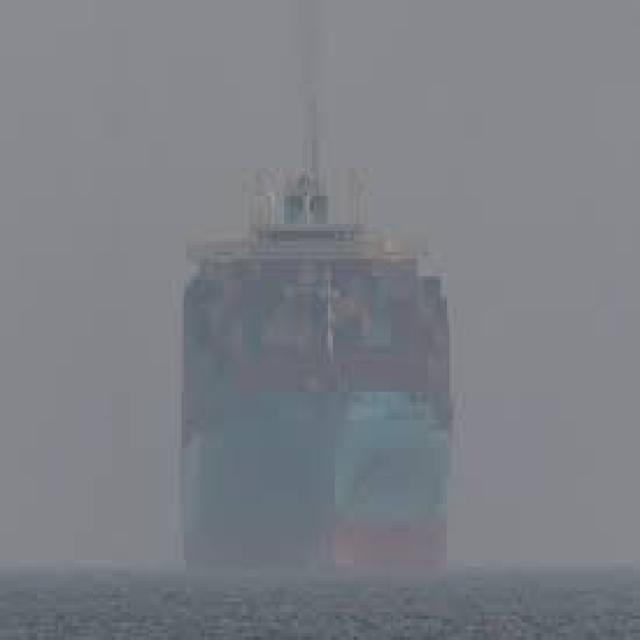cargoship: (169, 129, 459, 562)
